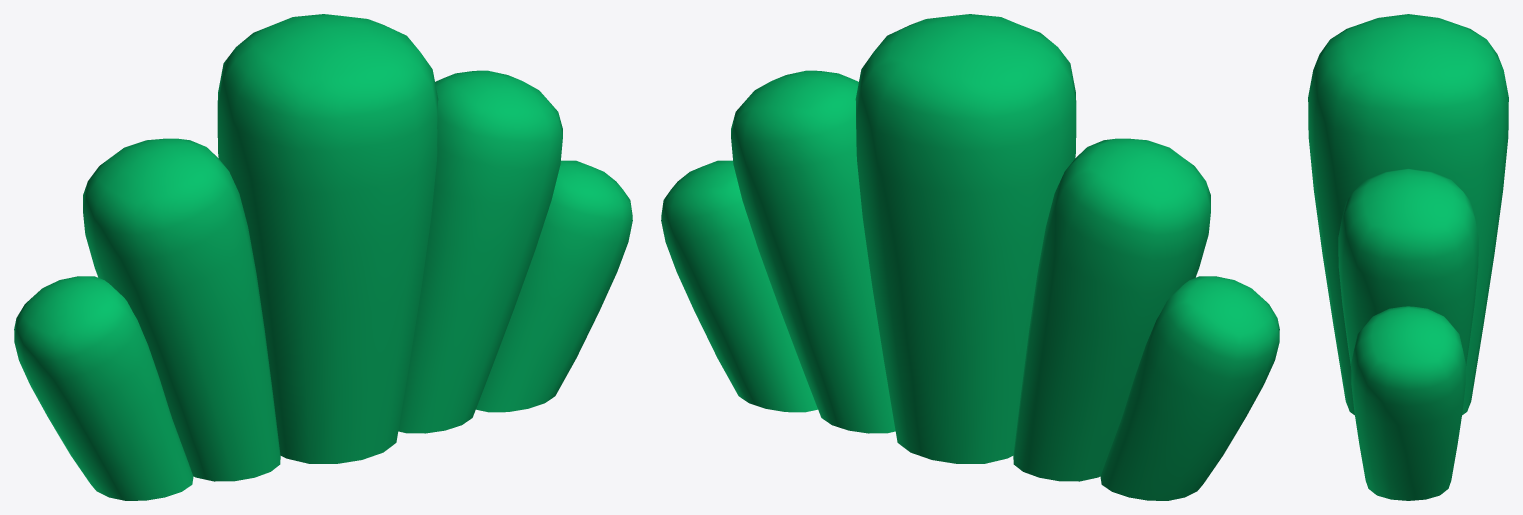
The model's file is City_5_Plant_2.glb.
The picture shows the model from 3 angles, left to right: view 1: azimuth 30°, elevation 25°; view 2: azimuth 150°, elevation 25°; view 3: azimuth 270°, elevation 25°; orthographic projection. The views are drawn at different scales.
Visible parts, largest first — view 1: City_5_Plant_2; view 2: City_5_Plant_2; view 3: City_5_Plant_2.
Boxes of the visible parts, bbox=[...] form: City_5_Plant_2: bbox=[14, 14, 632, 500]; City_5_Plant_2: bbox=[661, 14, 1279, 500]; City_5_Plant_2: bbox=[1308, 14, 1508, 500].
Size of the model in its own units: 1.93 by 1.25 by 0.6086.
Materials: 1 (1 with a texture image).
